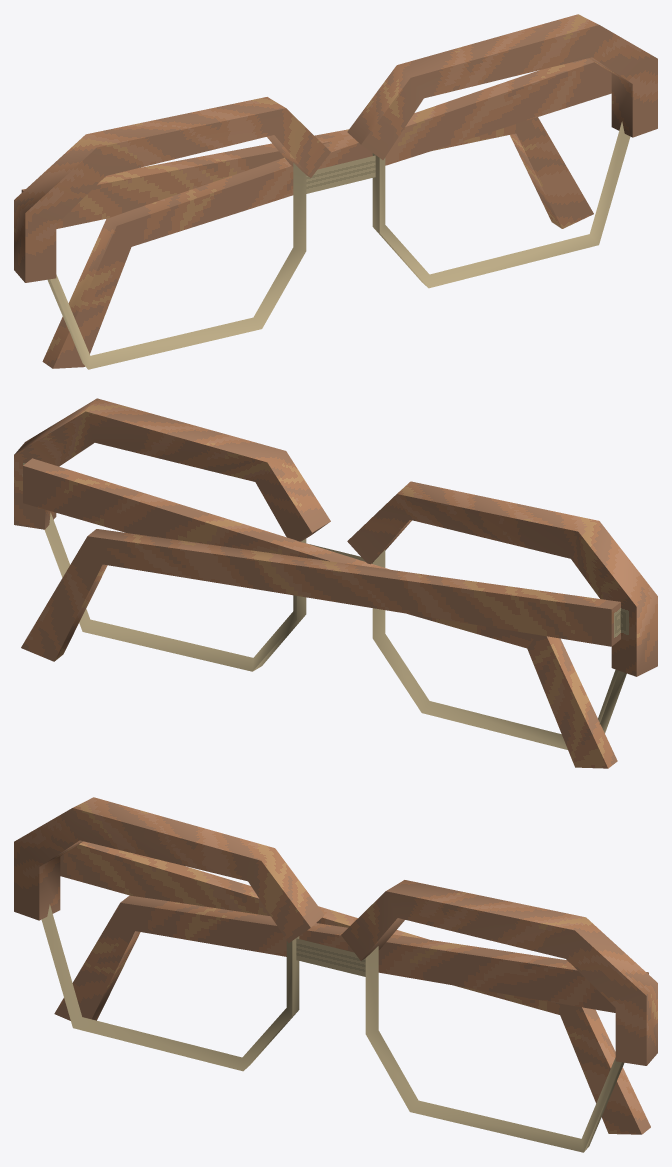
The model's file is 0031_Glasses.glb.
The picture shows the model from 3 angles, top to bottom: view 1: azimuth 30°, elevation 25°; view 2: azimuth 150°, elevation 25°; view 3: azimuth 330°, elevation 25°; orthographic projection.
Visible parts, largest first — view 1: part_0; view 2: part_0; view 3: part_0.
Part boxes in pixels (x1,y1,x2,y2): part_0: [14, 14, 657, 369]; part_0: [14, 398, 657, 768]; part_0: [14, 797, 657, 1152].
Bounding box in the file's own units: 0.1107 × 0.0384 × 0.0142.
Materials: 1 (1 with a texture image).
